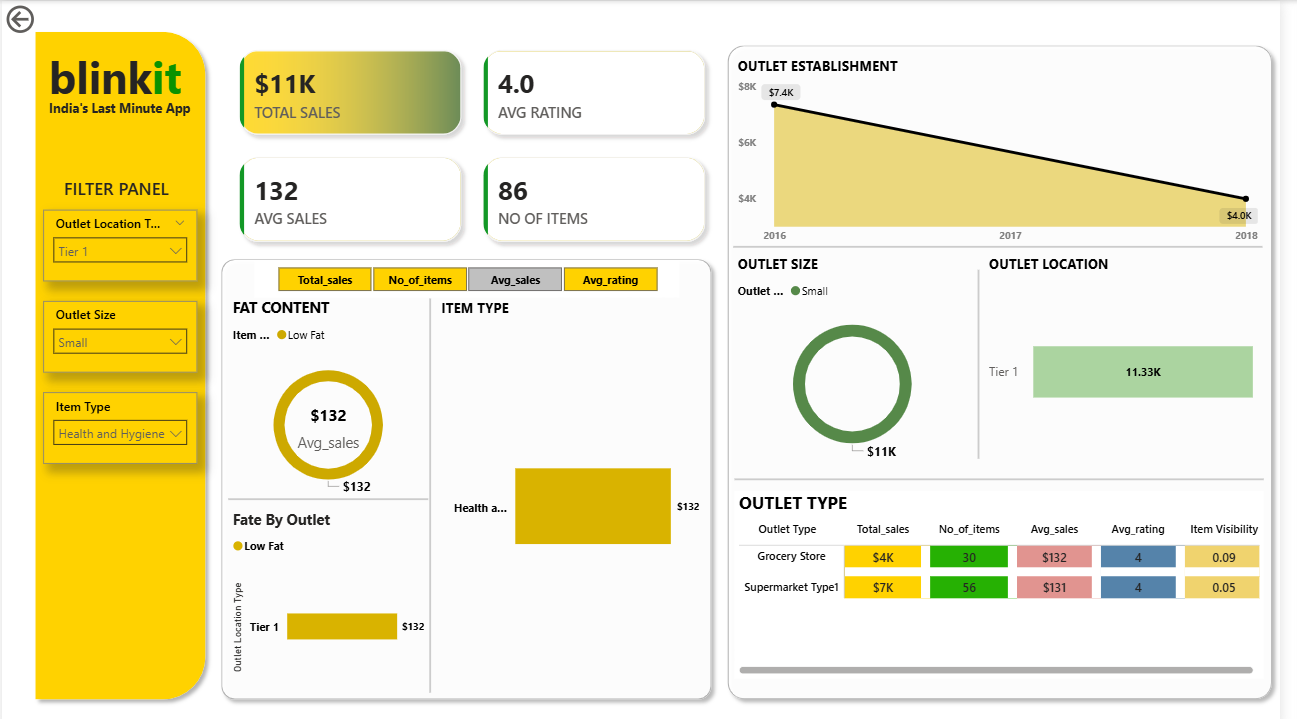

This screenshot's page, from the dashboard's own definition file:
{"tool":"powerbi","page":{"name":"Page 1","canvas":[1400,800],"ordinal":0},"visuals":[{"type":"shape","box":[27.3,24.5,204.5,749.8],"z":0},{"type":"textbox","box":[46.4,45,165,75],"z":1000},{"type":"textbox","box":[46.4,102.3,169.1,35.4],"z":2000},{"type":"actionButton","box":[0,0,100,40],"z":3000},{"type":"cardVisual","fields":{"Data":["BlinkIT Grocery Data.Total_sales","BlinkIT Grocery Data.Avg_rating","BlinkIT Grocery Data.Avg_sales","BlinkIT Grocery Data.No_of_items"]},"box":[231.8,24.5,569.9,269.9],"z":4000},{"type":"shape","box":[231.8,274,554.9,500.3],"z":5000},{"type":"donutChart","title":"FAT CONTENT","fields":{"Y":["BlinkIT Grocery Data.Total_sales"],"Category":["BlinkIT Grocery Data.Item Fat Content"]},"box":[248.6,324.5,219.6,230.6],"z":6000},{"type":"slicer","fields":{"Values":["Metrics.Metrics"]},"box":[276.2,284.5,465.4,40],"z":7000},{"type":"card","fields":{"Values":["BlinkIT Grocery Data.Total_sales"]},"box":[287.7,428.1,140.4,76.3],"z":8000},{"type":"clusteredBarChart","title":"Fate By Outlet","fields":{"Y":["BlinkIT Grocery Data.Total_sales"],"Category":["BlinkIT Grocery Data.Outlet Location Type"],"Series":["BlinkIT Grocery Data.Item Fat Content"]},"box":[248.6,555.7,220,202.9],"z":9000},{"type":"shape","box":[248.6,537.2,219.6,18],"z":10000},{"type":"shape","box":[461.2,325.9,15.2,432.2],"z":11000},{"type":"barChart","title":"ITEM TYPE","fields":{"Y":["BlinkIT Grocery Data.Total_sales"],"Category":["BlinkIT Grocery Data.Item Type"]},"box":[476.4,325.9,292.8,432.2],"z":12000},{"type":"shape","box":[785.7,40,614.3,734.3],"z":13000},{"type":"lineChart","title":"OUTLET ESTABLISHMENT","fields":{"Category":["BlinkIT Grocery Data.Outlet Establishment Year"],"Y":["BlinkIT Grocery Data.Total_sales"]},"box":[801.4,60,580,214.3],"z":14000},{"type":"shape","box":[801.4,264.3,580,10],"z":15000},{"type":"donutChart","title":"OUTLET SIZE","fields":{"Y":["BlinkIT Grocery Data.Total_sales"],"Category":["BlinkIT Grocery Data.Outlet Size"]},"box":[801.4,278.6,261.4,235.7],"z":16000},{"type":"shape","box":[1062.9,294.3,14.3,207.1],"z":17000},{"type":"funnel","title":"OUTLET LOCATION","fields":{"Y":["Sum(BlinkIT Grocery Data.Sales)"],"Category":["BlinkIT Grocery Data.Outlet Location Type"]},"box":[1077.1,278.6,304.3,235.7],"z":18000},{"type":"shape","box":[802.9,518.6,580,10],"z":19000},{"type":"pivotTable","title":"OUTLET TYPE","fields":{"Rows":["BlinkIT Grocery Data.Outlet Type"],"Values":["BlinkIT Grocery Data.Total_sales","BlinkIT Grocery Data.No_of_items","BlinkIT Grocery Data.Avg_sales","BlinkIT Grocery Data.Avg_rating","Avg(BlinkIT Grocery Data.Item Visibility)"]},"box":[802.9,537.1,580,205.7],"z":20000},{"type":"slicer","fields":{"Values":["BlinkIT Grocery Data.Outlet Location Type"]},"box":[45.7,228.6,168.6,78.6],"z":21000},{"type":"slicer","fields":{"Values":["BlinkIT Grocery Data.Outlet Size"]},"box":[45.7,328.6,168.6,78.6],"z":22000},{"type":"slicer","fields":{"Values":["BlinkIT Grocery Data.Item Type"]},"box":[45.7,428.6,168.6,78.6],"z":23000},{"type":"textbox","box":[62.9,187.1,130,57.1],"z":24000}]}

Visuals, with their boxes on the page's 1400x800 design canvas (x1, y1, x2, y2). These are canvas units, not pixel positions in the 1297x719 screenshot, which may show the page scaled, cropped or inside an application window:
shape: [27,24,232,774]
textbox: [46,45,211,120]
textbox: [46,102,216,138]
actionButton: [0,0,100,40]
cardVisual - BlinkIT Grocery Data.Total_sales x BlinkIT Grocery Data.Avg_rating: [232,24,802,294]
shape: [232,274,787,774]
"FAT CONTENT" donutChart: [249,324,468,555]
slicer - Metrics.Metrics: [276,284,742,324]
card - BlinkIT Grocery Data.Total_sales: [288,428,428,504]
"Fate By Outlet" clusteredBarChart: [249,556,469,759]
shape: [249,537,468,555]
shape: [461,326,476,758]
"ITEM TYPE" barChart: [476,326,769,758]
shape: [786,40,1400,774]
"OUTLET ESTABLISHMENT" lineChart: [801,60,1381,274]
shape: [801,264,1381,274]
"OUTLET SIZE" donutChart: [801,279,1063,514]
shape: [1063,294,1077,501]
"OUTLET LOCATION" funnel: [1077,279,1381,514]
shape: [803,519,1383,529]
"OUTLET TYPE" pivotTable: [803,537,1383,743]
slicer - BlinkIT Grocery Data.Outlet Location Type: [46,229,214,307]
slicer - BlinkIT Grocery Data.Outlet Size: [46,329,214,407]
slicer - BlinkIT Grocery Data.Item Type: [46,429,214,507]
textbox: [63,187,193,244]
